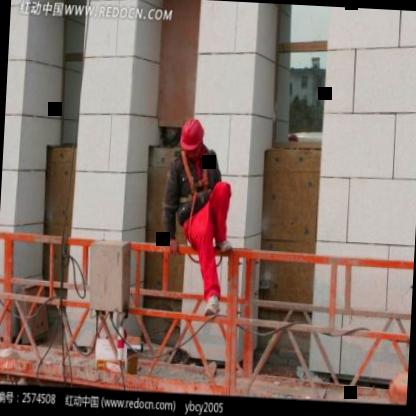helmet: (178, 112, 209, 170)
